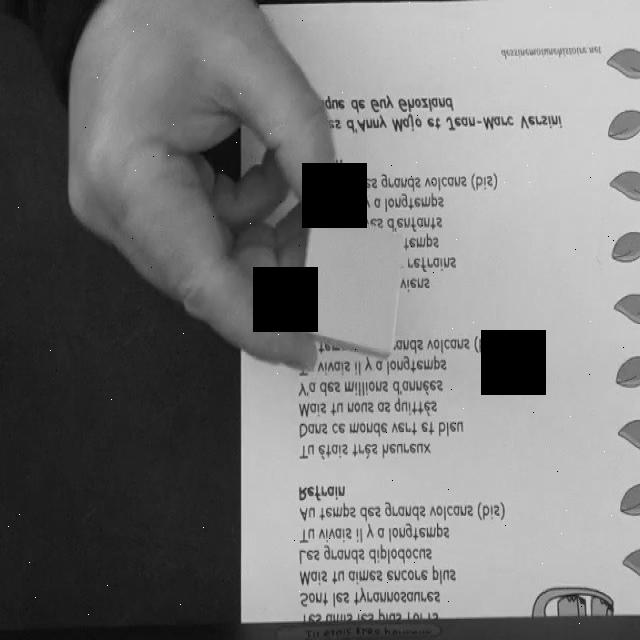square: (296, 213, 404, 356)
